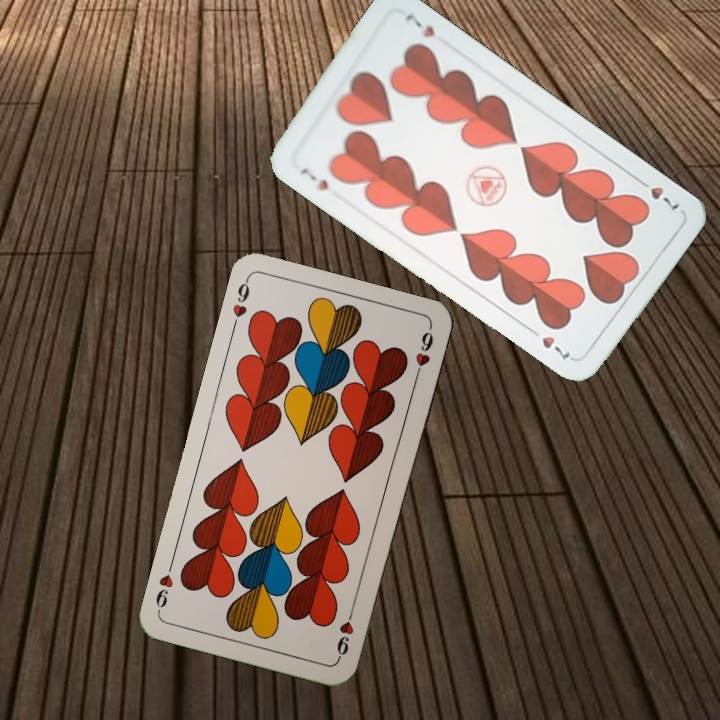H7: (632, 173, 682, 216), (296, 163, 332, 194)
H9: (228, 275, 253, 333), (333, 603, 357, 662)
